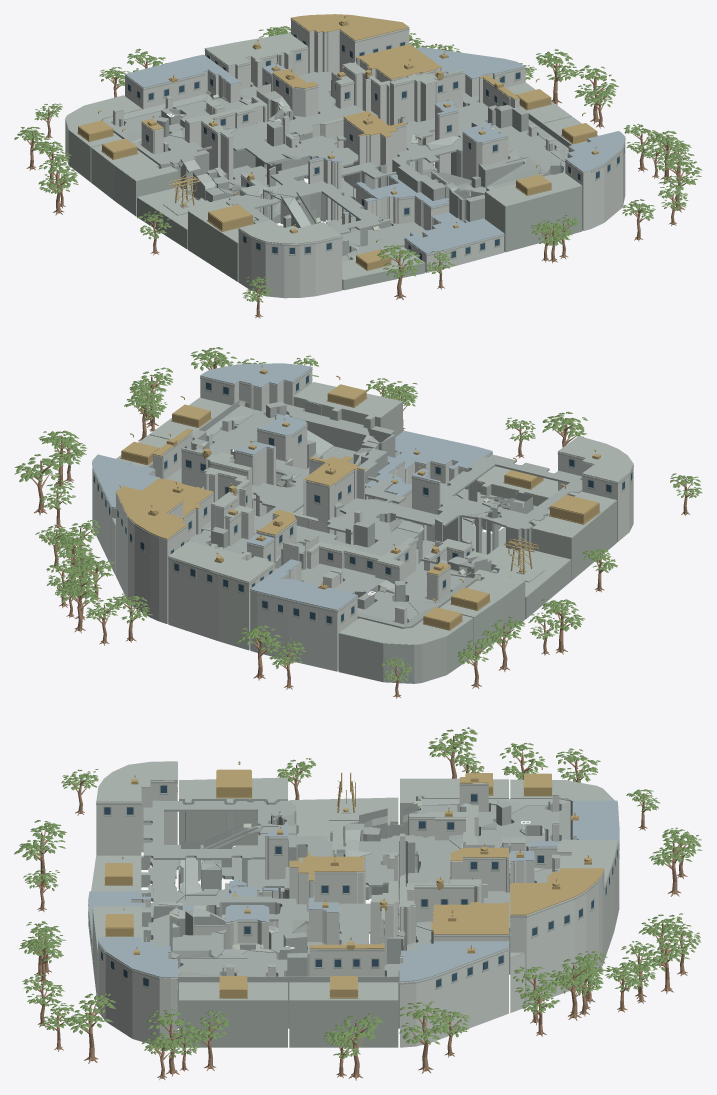
Rendered from vertigo.glb.
3 views of the same model, one above another, from view 1: azimuth 30°, elevation 25°; view 2: azimuth 150°, elevation 25°; view 3: azimuth 270°, elevation 25° (orthographic). The views are drawn at different scales.
Parts seen in each view (by area): view 1: ARENA_upper_wall, ARENA_upper_paving, ARENA_upper_stone, ARENA_lower_leaf, ARENA_upper_metal, ARENA_upper_roof, ARENA_lower_stone, ARENA_lower_paving, ARENA_lower_wall, ARENA_lower_bark, ARENA_lower_roof, ARENA_upper_glass (+1 smaller); view 2: ARENA_upper_wall, ARENA_upper_stone, ARENA_upper_paving, ARENA_lower_leaf, ARENA_upper_metal, ARENA_upper_roof, ARENA_lower_stone, ARENA_lower_bark, ARENA_lower_roof, ARENA_lower_paving, ARENA_lower_wall, ARENA_upper_glass (+1 smaller); view 3: ARENA_upper_wall, ARENA_upper_stone, ARENA_upper_paving, ARENA_lower_leaf, ARENA_upper_metal, ARENA_upper_roof, ARENA_lower_bark, ARENA_lower_paving, ARENA_lower_stone, ARENA_upper_glass, ARENA_lower_roof, ARENA_lower_metal (+1 smaller).
Boxes of the visible parts, bbox=[...] form: ARENA_upper_wall: bbox=[113, 18, 625, 298]; ARENA_upper_paving: bbox=[102, 71, 571, 246]; ARENA_upper_stone: bbox=[65, 19, 625, 282]; ARENA_lower_leaf: bbox=[14, 26, 702, 302]; ARENA_upper_metal: bbox=[77, 14, 598, 233]; ARENA_upper_roof: bbox=[124, 47, 625, 192]; ARENA_lower_stone: bbox=[137, 171, 504, 290]; ARENA_lower_paving: bbox=[179, 159, 484, 261]; ARENA_lower_wall: bbox=[240, 172, 504, 272]; ARENA_lower_bark: bbox=[24, 30, 692, 318]; ARENA_lower_roof: bbox=[342, 172, 504, 267]; ARENA_upper_glass: bbox=[128, 34, 624, 253]; ARENA_upper_wall: bbox=[92, 368, 633, 671]; ARENA_upper_stone: bbox=[92, 369, 633, 683]; ARENA_upper_paving: bbox=[148, 399, 582, 628]; ARENA_lower_leaf: bbox=[14, 347, 702, 681]; ARENA_upper_metal: bbox=[116, 365, 600, 630]; ARENA_upper_roof: bbox=[92, 363, 566, 627]; ARENA_lower_stone: bbox=[353, 452, 571, 618]; ARENA_lower_bark: bbox=[25, 353, 694, 698]; ARENA_lower_roof: bbox=[366, 431, 517, 503]; ARENA_lower_paving: bbox=[294, 446, 546, 577]; ARENA_lower_wall: bbox=[353, 451, 492, 570]; ARENA_upper_glass: bbox=[93, 375, 632, 623]; ARENA_upper_wall: bbox=[96, 780, 619, 1047]; ARENA_upper_stone: bbox=[92, 761, 619, 1047]; ARENA_upper_paving: bbox=[143, 794, 570, 1028]; ARENA_lower_leaf: bbox=[14, 727, 701, 1058]; ARENA_upper_metal: bbox=[105, 761, 604, 998]; ARENA_upper_roof: bbox=[98, 788, 619, 991]; ARENA_lower_bark: bbox=[29, 735, 693, 1080]; ARENA_lower_paving: bbox=[144, 819, 417, 956]; ARENA_lower_stone: bbox=[88, 797, 398, 948]; ARENA_upper_glass: bbox=[101, 785, 617, 987]; ARENA_lower_roof: bbox=[88, 878, 278, 937]; ARENA_lower_metal: bbox=[104, 772, 361, 896].
Size of what is drawn, in the model's own units: 56.69 by 8.73 by 53.05.
